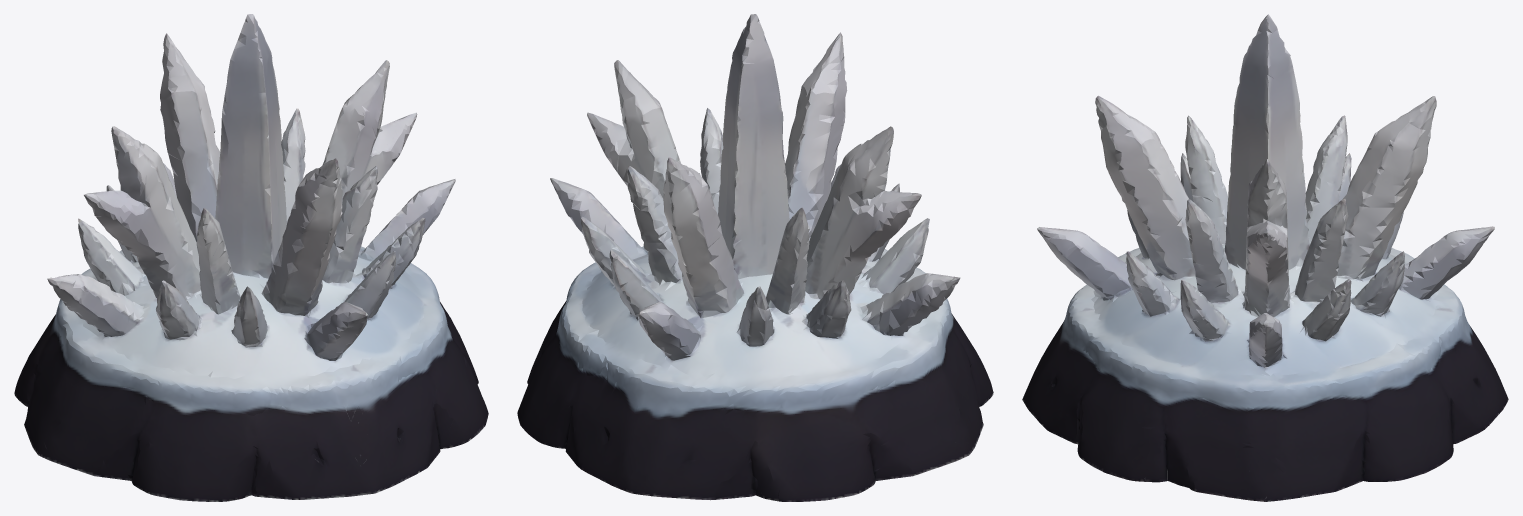
File: Node_Silver.glb
3 renders of one model, left to right at view 1: azimuth 30°, elevation 25°; view 2: azimuth 150°, elevation 25°; view 3: azimuth 270°, elevation 25°, orthographic.
Parts seen in each view (by area): view 1: Node_Silver; view 2: Node_Silver; view 3: Node_Silver.
Part boxes in pixels (<box>): Node_Silver: <box>14,14,488,501</box>; Node_Silver: <box>517,14,993,501</box>; Node_Silver: <box>1022,14,1508,501</box>.
Size of the model in its own units: 0.7454 by 0.65 by 0.7456.
1 material, 1 textured.
